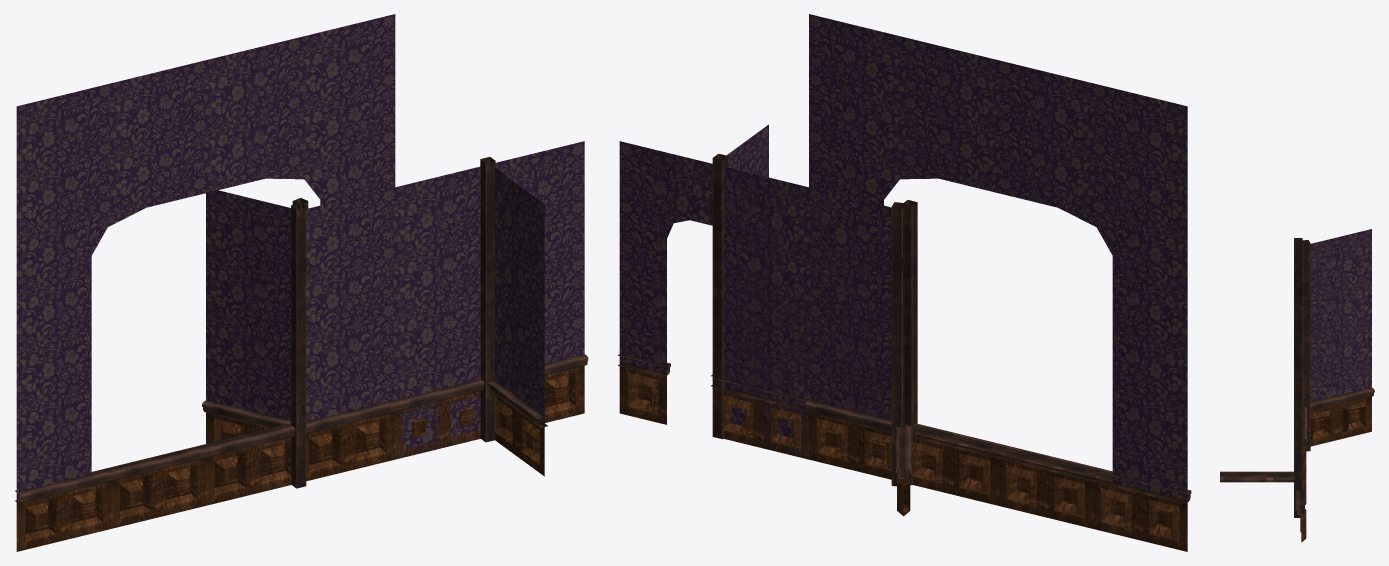
Rendered from ba_room.fbx.
3 renders of one model, left to right at view 1: azimuth 30°, elevation 25°; view 2: azimuth 150°, elevation 25°; view 3: azimuth 270°, elevation 25°, orthographic. The views are drawn at different scales.
Parts seen in each view (by area): view 1: ba_room_win, Ba_room_ges, Ba_room, Ba_room_g, Ba_room_d, Ba_room_up; view 2: ba_room_win, Ba_room_d, Ba_room_ges_ower, Ba_room, Ba_room_ges, Ba_room_up, Ba_room_g; view 3: Ba_room_ges, Ba_room_ges_ower, Ba_room_g, Ba_room_d, Ba_room.
Boxes of the visible parts, <box> form: ba_room_win: <box>15,14,398,551</box>; Ba_room_ges: <box>202,187,399,488</box>; Ba_room: <box>395,166,484,459</box>; Ba_room_g: <box>480,157,547,476</box>; Ba_room_d: <box>395,141,588,457</box>; Ba_room_up: <box>395,270,480,458</box>; ba_room_win: <box>807,14,1191,551</box>; Ba_room_d: <box>618,141,808,458</box>; Ba_room_ges_ower: <box>805,188,910,515</box>; Ba_room: <box>712,167,808,459</box>; Ba_room_ges: <box>807,187,917,515</box>; Ba_room_up: <box>723,265,808,458</box>; Ba_room_g: <box>711,124,768,439</box>; Ba_room_ges: <box>1294,229,1373,446</box>; Ba_room_ges_ower: <box>1300,229,1374,451</box>; Ba_room_g: <box>1220,306,1302,517</box>; Ba_room_d: <box>1295,439,1306,542</box>; Ba_room: <box>1302,439,1306,504</box>.
Size of the model in its own units: 600 by 450 by 190.
